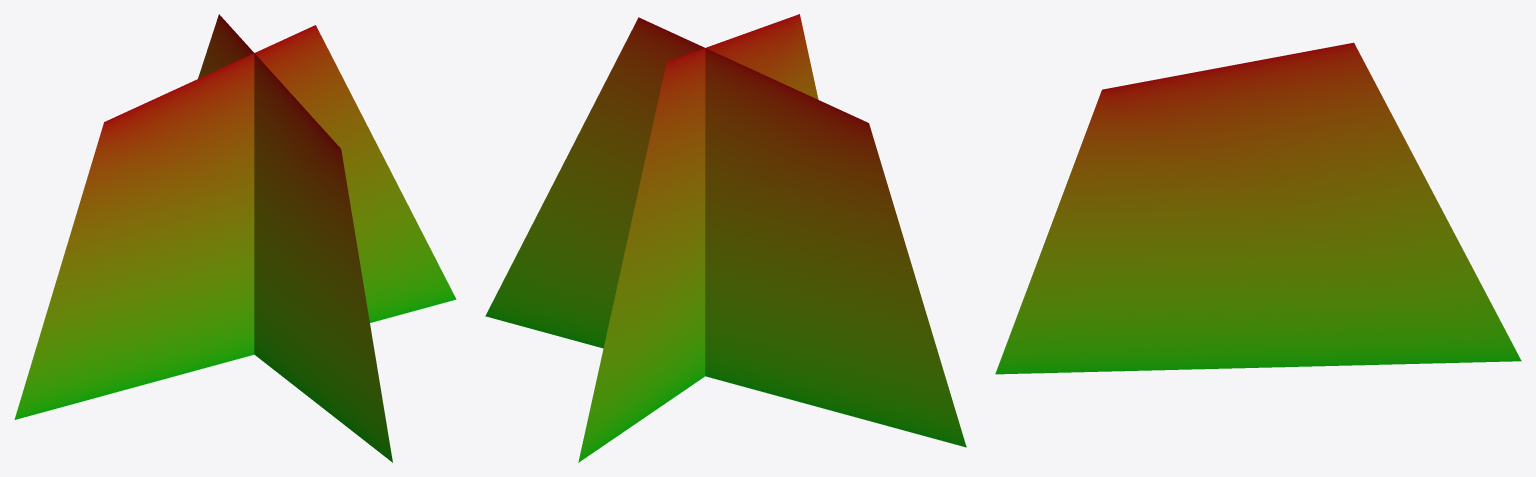
File: Dead Shrubs_LOD4_Var3_vdknafgha.fbx
3 views of the same model, side by side, from view 1: azimuth 30°, elevation 25°; view 2: azimuth 150°, elevation 25°; view 3: azimuth 270°, elevation 25° (orthographic). The views are drawn at different scales.
Visible parts, largest first — view 1: _edz6_Var3_LOD4; view 2: _edz6_Var3_LOD4; view 3: _edz6_Var3_LOD4.
Part boxes in pixels (x1,y1,x2,y2): _edz6_Var3_LOD4: (14, 14, 456, 462); _edz6_Var3_LOD4: (485, 14, 966, 462); _edz6_Var3_LOD4: (995, 42, 1521, 374).
Size of the model in its own units: 74.79 by 52 by 74.79.
